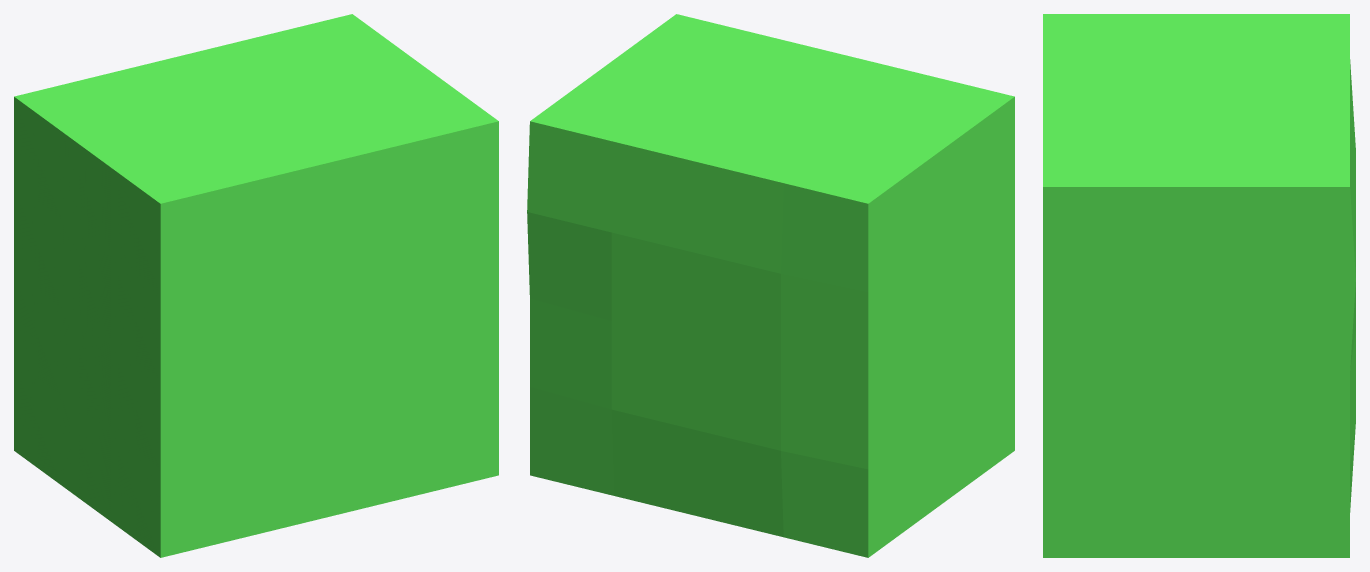
The model's file is Tiles3D_Sol_bord_-z.fbx.
The picture shows the model from 3 angles, left to right: view 1: azimuth 30°, elevation 25°; view 2: azimuth 150°, elevation 25°; view 3: azimuth 270°, elevation 25°; orthographic projection. The views are drawn at different scales.
Visible parts, largest first — view 1: Tiles3D_sol_bord_z; view 2: Tiles3D_sol_bord_z; view 3: Tiles3D_sol_bord_z.
Part boxes in pixels (x1,y1,x2,y2): Tiles3D_sol_bord_z: (14, 14, 498, 557); Tiles3D_sol_bord_z: (527, 14, 1014, 557); Tiles3D_sol_bord_z: (1043, 14, 1355, 557).
Bounding box in the file's own units: 100 × 100 × 76.45.
1 material, 1 textured.
